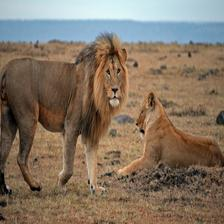lions: (2, 35, 131, 158), (135, 79, 224, 178)
